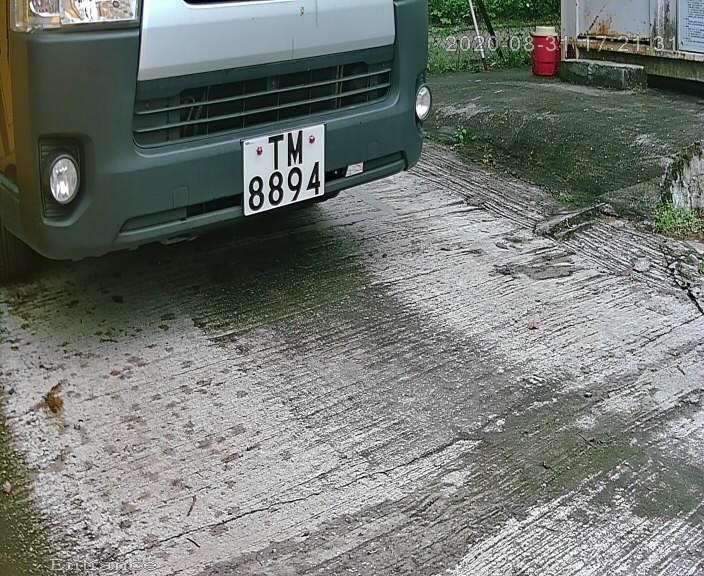License Plate: (236, 116, 334, 224)
